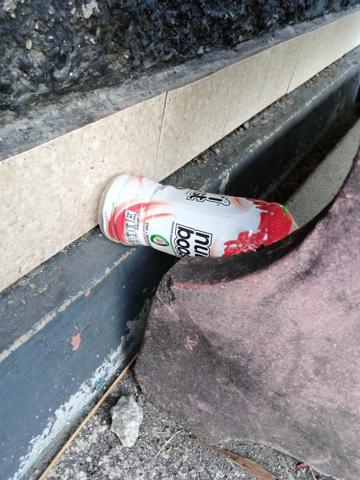botol_kaca: (91, 163, 325, 277)
